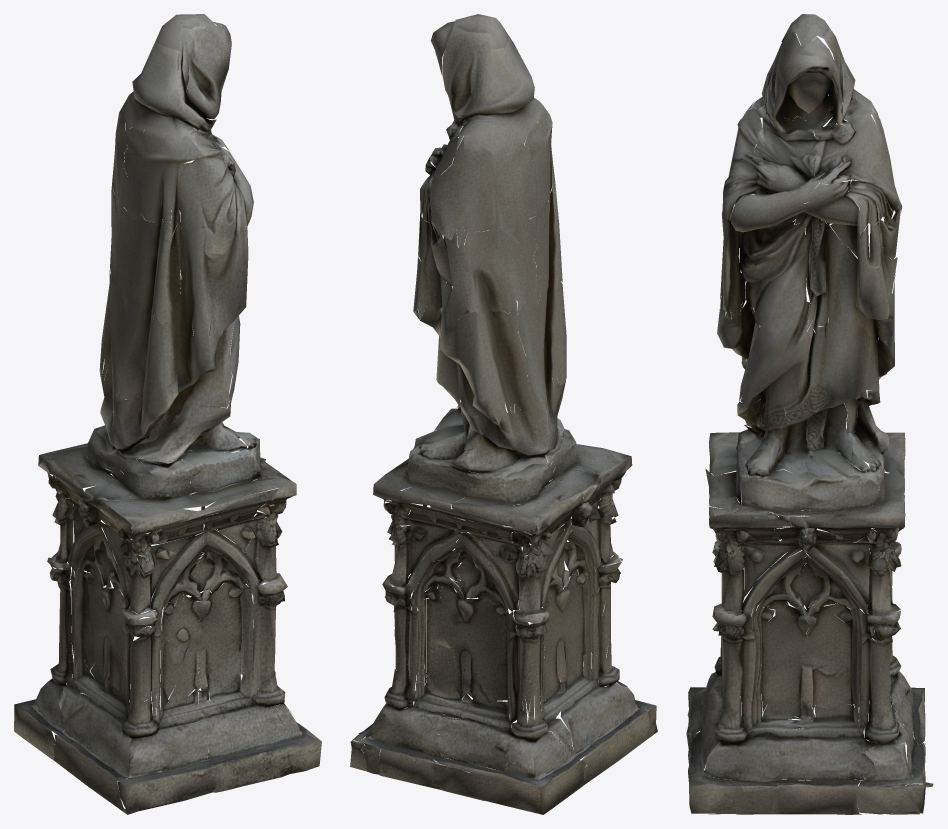
The model's file is funerary-monument-lod.glb.
The picture shows the model from 3 angles, left to right: view 1: azimuth 30°, elevation 25°; view 2: azimuth 150°, elevation 25°; view 3: azimuth 270°, elevation 25°; orthographic projection. The views are drawn at different scales.
Parts seen in each view (by area): view 1: tripo_node_601d73ef-c727-4e47-b868-5556133cb847; view 2: tripo_node_601d73ef-c727-4e47-b868-5556133cb847; view 3: tripo_node_601d73ef-c727-4e47-b868-5556133cb847.
Boxes of the visible parts, bbox=[...] form: tripo_node_601d73ef-c727-4e47-b868-5556133cb847: bbox=[14, 14, 321, 814]; tripo_node_601d73ef-c727-4e47-b868-5556133cb847: bbox=[350, 14, 657, 814]; tripo_node_601d73ef-c727-4e47-b868-5556133cb847: bbox=[686, 14, 933, 814].
Size of the model in its own units: 0.2817 by 1 by 0.2953.
1 material, 1 textured.
